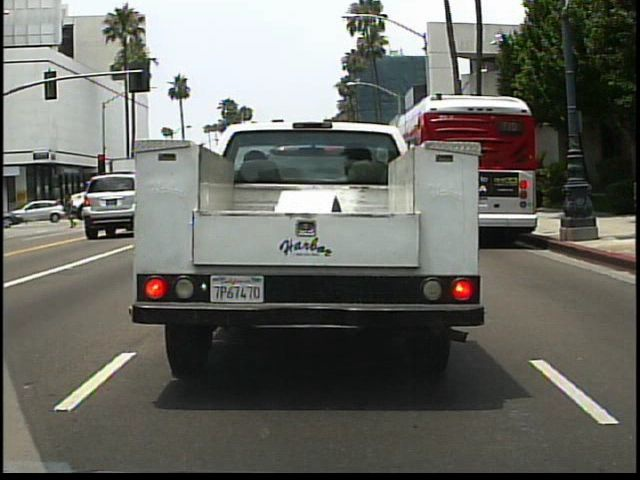person: (61, 187, 79, 232), (26, 201, 27, 228)
